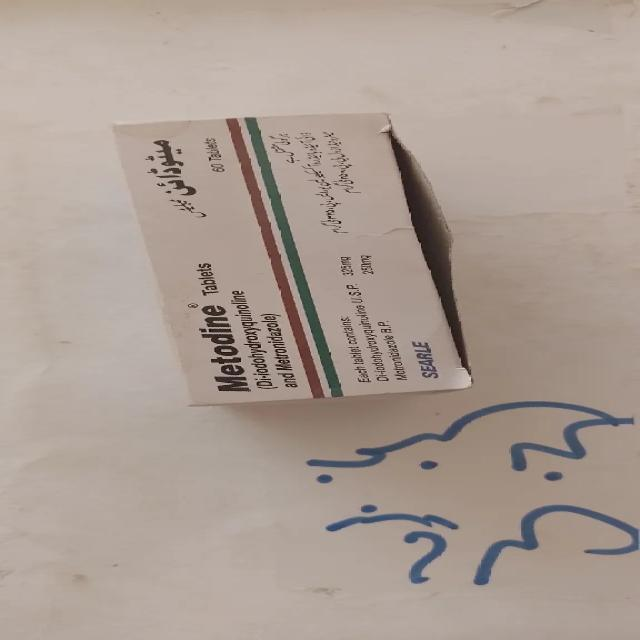drug-name: (193, 299, 254, 394)
